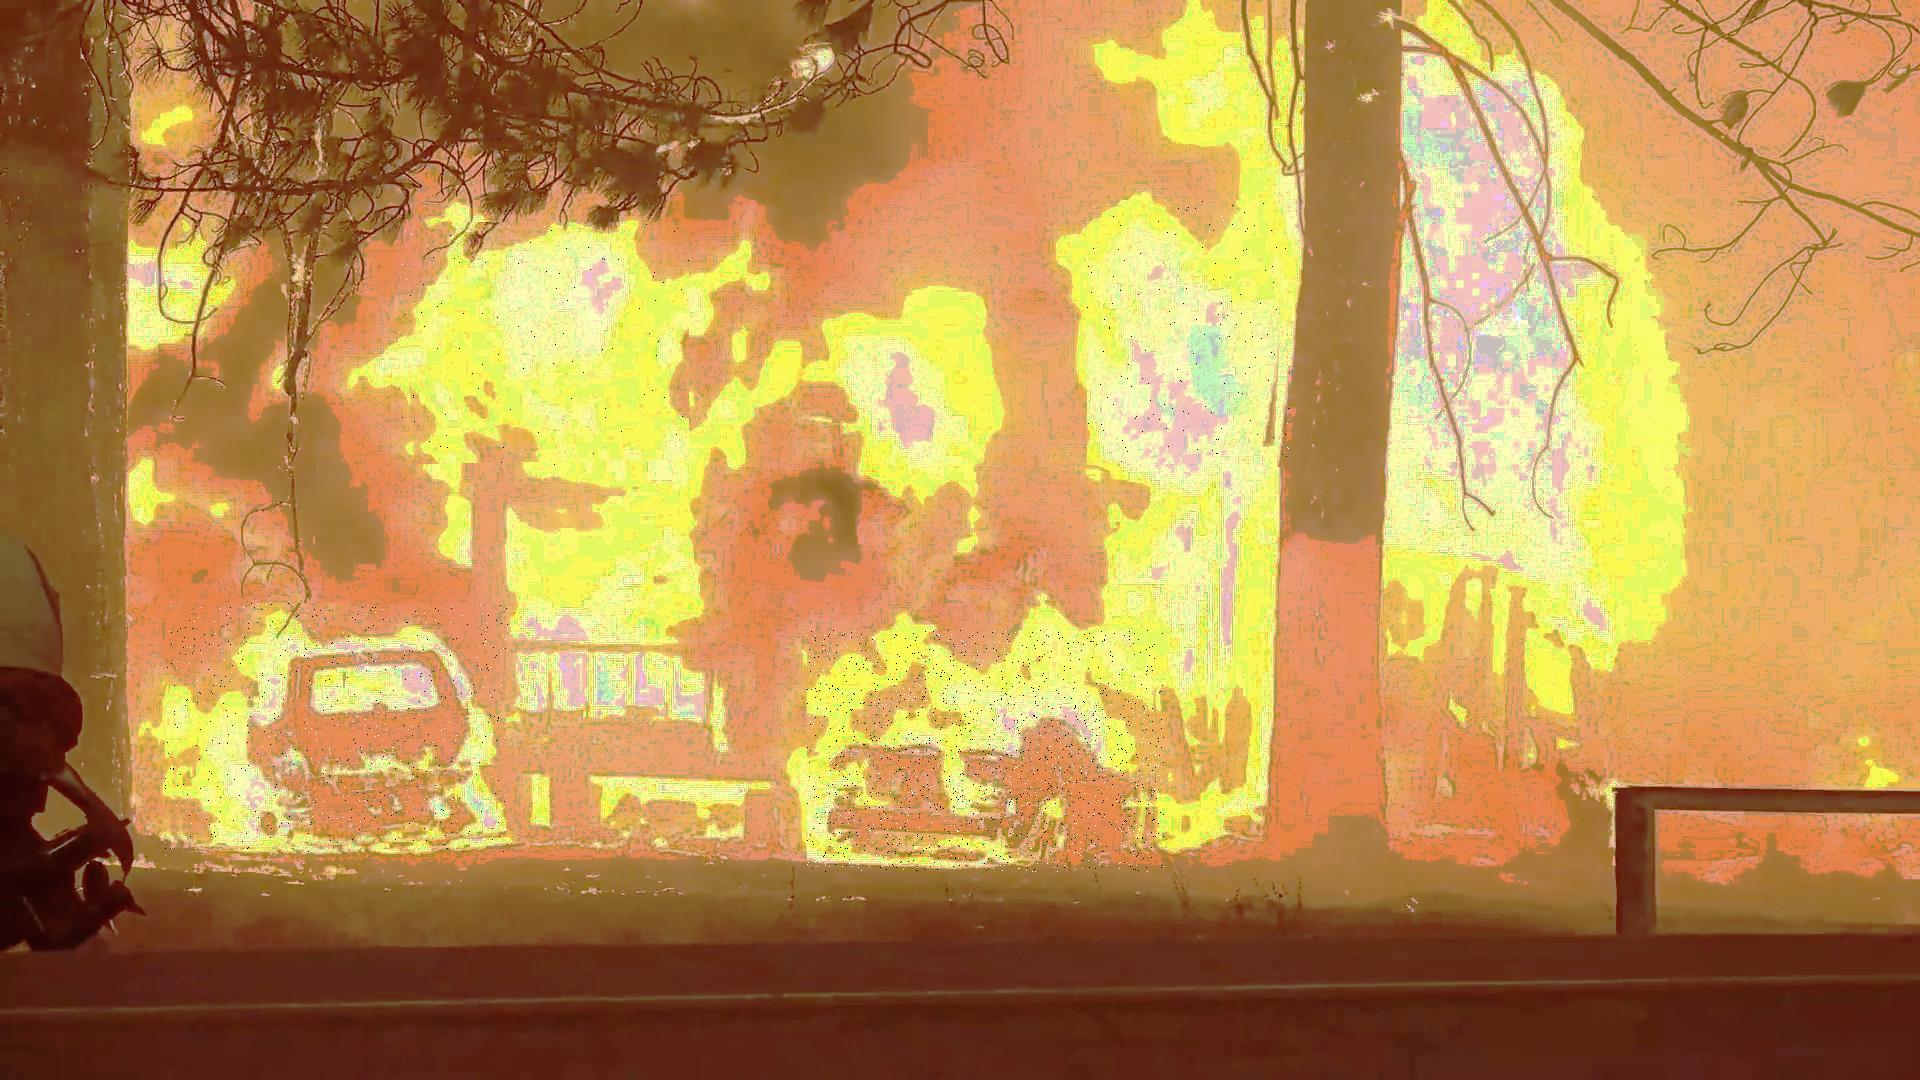fire: (808, 630, 1165, 872), (166, 603, 509, 852), (398, 223, 689, 467), (1088, 200, 1291, 467)
